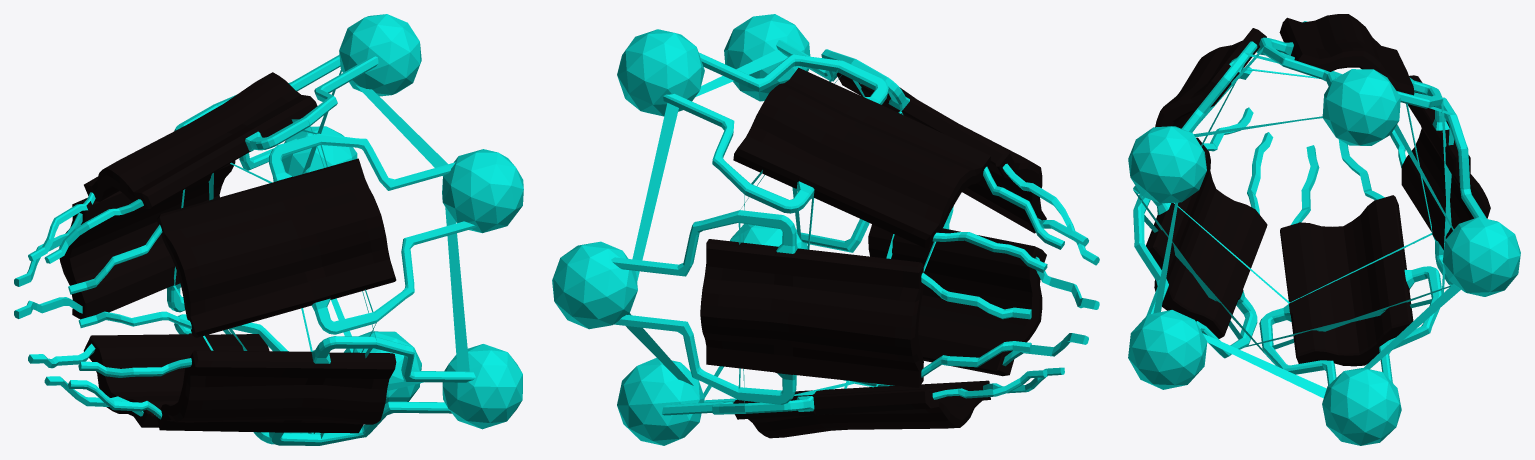
The model's file is Gate3.fbx.
3 renders of one model, left to right at view 1: azimuth 30°, elevation 25°; view 2: azimuth 150°, elevation 25°; view 3: azimuth 270°, elevation 25°, orthographic. The views are drawn at different scales.
Visible parts, largest first — view 1: Cube.001; view 2: Cube.001; view 3: Cube.001.
Part boxes in pixels (<box>): Cube.001: <box>14,14,523,445</box>; Cube.001: <box>552,14,1099,445</box>; Cube.001: <box>1128,14,1520,445</box>.
Bounding box in the file's own units: 6.79 × 6.41 × 6.15.
